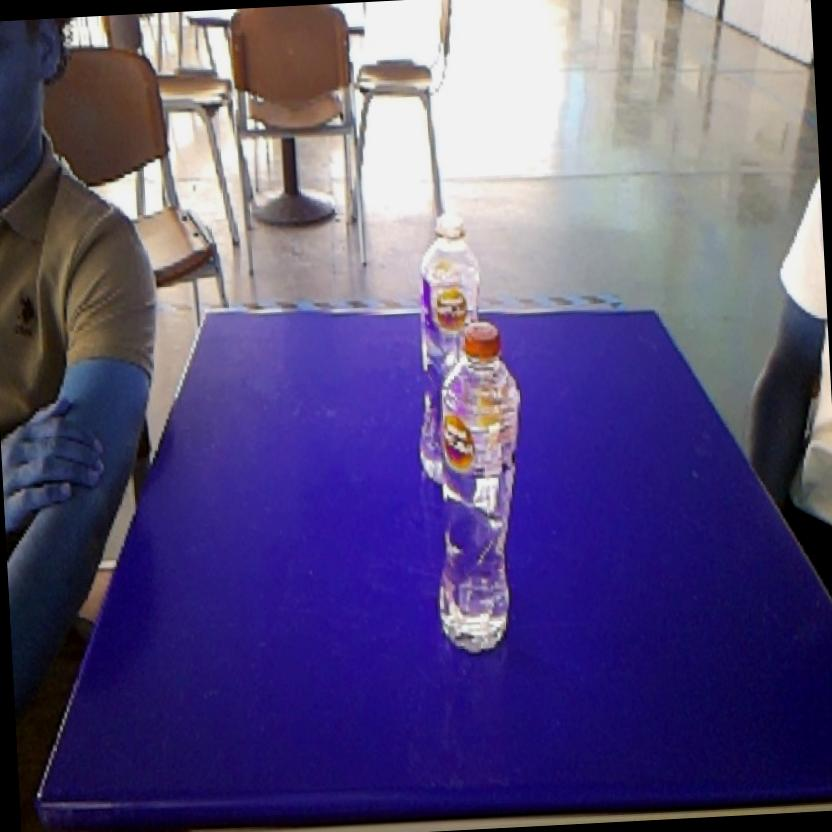good: (419, 318, 540, 668)
no_cap: (410, 203, 490, 324)
